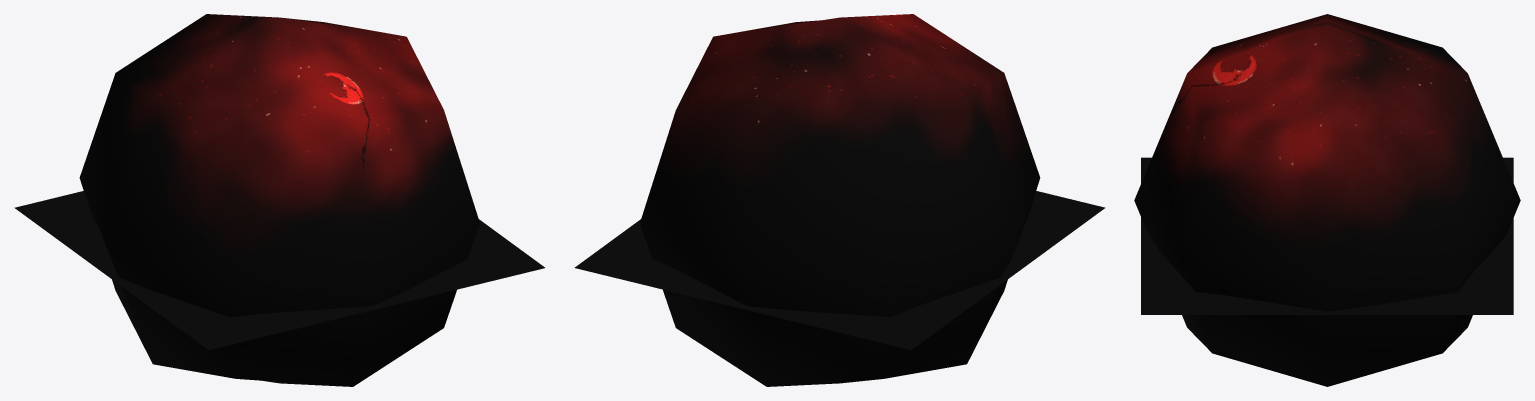
File: Locaton4_expo.fbx
3 views of the same model, side by side, from view 1: azimuth 30°, elevation 25°; view 2: azimuth 150°, elevation 25°; view 3: azimuth 270°, elevation 25° (orthographic). The views are drawn at different scales.
Visible parts, largest first — view 1: SkyBox02.001, Plane; view 2: SkyBox02.001, Plane; view 3: SkyBox02.001, Plane.
Part boxes in pixels (box(x1,y1,x2,y2)): SkyBox02.001: box(79, 14, 479, 386); Plane: box(14, 191, 544, 349); SkyBox02.001: box(640, 14, 1040, 386); Plane: box(574, 191, 1105, 349); SkyBox02.001: box(1134, 14, 1520, 386); Plane: box(1141, 157, 1513, 314).
Size of the model in its own units: 22293 by 22293 by 22293.
Materials: 13 (7 with a texture image).
